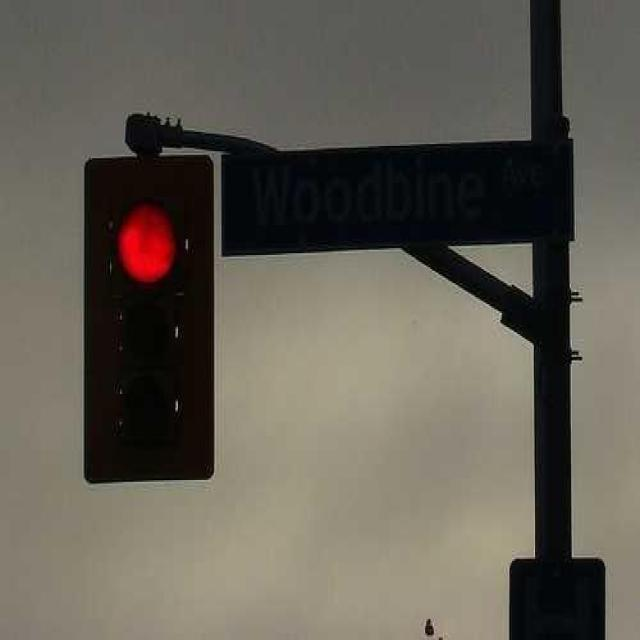Traffic Light -Red-: (86, 156, 217, 496)
